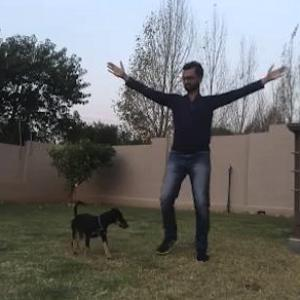takeoff: (110, 45, 286, 260)
